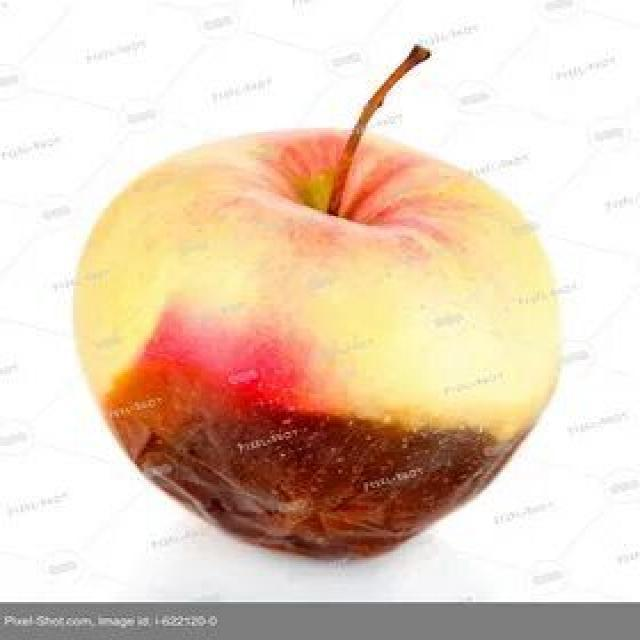Apple: (62, 123, 577, 568)
